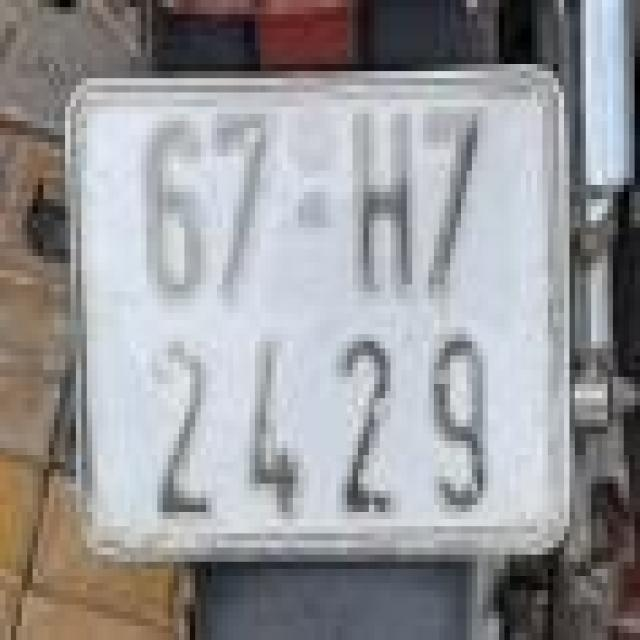2: (141, 334, 222, 526), (331, 327, 396, 533)
4: (238, 320, 304, 519)
6: (130, 103, 217, 317)
7: (206, 103, 277, 309), (415, 96, 480, 302)
9: (423, 324, 488, 516)
H: (342, 85, 412, 313)
